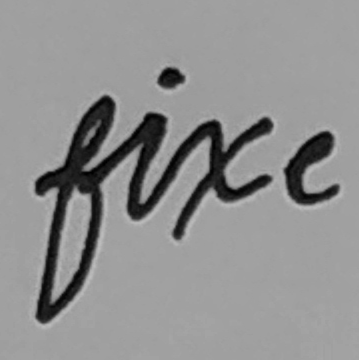e: (280, 123, 350, 214)
f: (29, 92, 119, 328)
i: (121, 63, 188, 224)
x: (166, 108, 278, 243)
